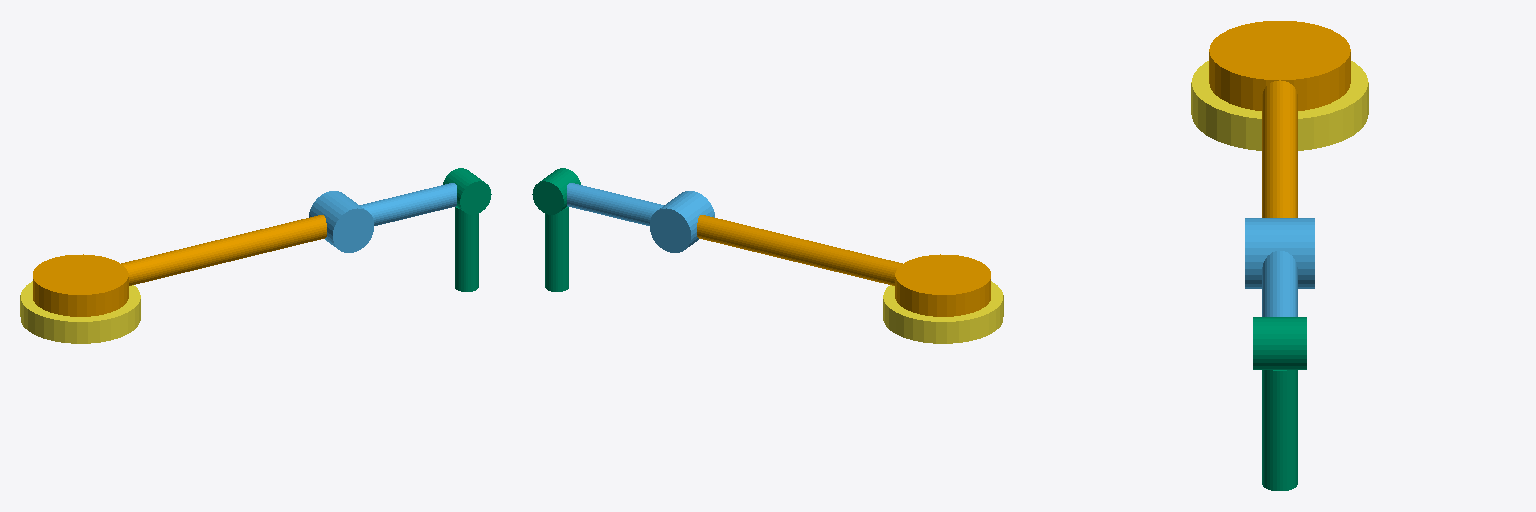
URDF robot description (robotic-arm-3dof):
<robot name="robotic-arm-3dof" version="1.0">
  <joint name="joint_1" type="revolute">
    <limit lower="-3.14000" upper="3.14000" effort="0.00000" velocity="0.00000"/>
    <origin rpy="0.00000 0.00000 0.00000" xyz="0.00000 0.00000 0.20000"/>
    <parent link="Cylinder_link"/>
    <child link="Cylinder.001_link"/>
    <axis xyz="0.00000 0.00000 1.00000"/>
  </joint>
  <joint name="joint_2" type="revolute">
    <limit lower="-3.14000" upper="3.14000" effort="0.00000" velocity="0.00000"/>
    <origin rpy="0.00000 0.00000 0.00000" xyz="2.50000 0.00000 0.00000"/>
    <parent link="Cylinder.001_link"/>
    <child link="Cylinder.002_link"/>
    <axis xyz="0.00000 1.00000 0.00000"/>
  </joint>
  <joint name="joint_3" type="revolute">
    <limit lower="-3.14000" upper="3.14000" effort="0.00000" velocity="0.00000"/>
    <origin rpy="0.00000 0.00000 0.00000" xyz="1.20000 0.00000 0.00000"/>
    <parent link="Cylinder.002_link"/>
    <child link="Cylinder.003_link"/>
    <axis xyz="0.00000 1.00000 0.00000"/>
  </joint>
  <link name="Cylinder.001_link">
    <collision name="Cylinder.001_collision">
      <origin rpy="0.00000 0.00000 0.00000" xyz="1.00000 0.00000 0.00000"/>
      <geometry>
        <box size="2.66965 0.80000 0.20000"/>
      </geometry>
    </collision>
    <inertial>
      <inertia ixx="0.02723" ixy="0.00000" ixz="0.00000" iyy="0.58138" iyz="-0.00000" izz="0.60282"/>
      <origin rpy="0.00000 0.00000 0.00000" xyz="0.53846 -0.00000 0.00000"/>
      <mass value="1.00000"/>
    </inertial>
    <visual name="Cylinder.001">
      <origin rpy="0.00000 0.00000 0.00000" xyz="0.00000 0.00000 0.00000"/>
      <geometry>
        <mesh filename="../meshes/obj/Cylinder.001.obj" scale="1.00000 1.00000 1.00000"/>
      </geometry>
    </visual>
  </link>
  <link name="Cylinder.002_link">
    <collision name="Cylinder.002_collision">
      <origin rpy="0.00000 0.00000 0.00000" xyz="0.45000 0.00000 0.00000"/>
      <geometry>
        <box size="1.22719 0.40000 0.40000"/>
      </geometry>
    </collision>
    <inertial>
      <inertia ixx="0.01588" ixy="-0.00000" ixz="0.00000" iyy="0.12671" iyz="-0.00000" izz="0.12900"/>
      <origin rpy="0.00000 0.00000 0.00000" xyz="0.23077 0.00000 0.00000"/>
      <mass value="1.00000"/>
    </inertial>
    <visual name="Cylinder.002">
      <origin rpy="0.00000 0.00000 0.00000" xyz="0.00000 0.00000 0.00000"/>
      <geometry>
        <mesh filename="../meshes/obj/Cylinder.003.obj" scale="1.00000 1.00000 1.00000"/>
      </geometry>
    </visual>
  </link>
  <link name="Cylinder.003_link">
    <collision name="Cylinder.003_collision">
      <origin rpy="0.00000 0.00000 0.00000" xyz="0.00000 0.00000 -0.36250"/>
      <geometry>
        <box size="0.30000 0.30000 1.02500"/>
      </geometry>
    </collision>
    <inertial>
      <inertia ixx="0.08836" ixy="-0.00000" ixz="0.00000" iyy="0.08734" iyz="0.00000" izz="0.00864"/>
      <origin rpy="0.00000 0.00000 0.00000" xyz="0.00000 -0.00000 -0.26316"/>
      <mass value="1.00000"/>
    </inertial>
    <visual name="Cylinder.003">
      <origin rpy="0.00000 0.00000 0.00000" xyz="0.00000 0.00000 0.00000"/>
      <geometry>
        <mesh filename="../meshes/obj/Cylinder.004.obj" scale="1.00000 1.00000 1.00000"/>
      </geometry>
    </visual>
  </link>
  <link name="Cylinder_link">
    <inertial>
      <inertia ixx="0.00001" ixy="0.00000" ixz="0.00000" iyy="0.00001" iyz="0.00000" izz="0.00001"/>
      <origin rpy="0.00000 0.00000 0.00000" xyz="0.00000 0.00000 0.00000"/>
      <mass value="0.00001"/>
    </inertial>
    <visual name="Cylinder">
      <origin rpy="0.00000 0.00000 0.00000" xyz="0.00000 0.00000 0.00000"/>
      <geometry>
        <mesh filename="../meshes/obj/Cylinder.obj" scale="1.00000 1.00000 1.00000"/>
      </geometry>
    </visual>
  </link>
</robot>

--- What the picture shows (computed from the rendered views, not written in the file) ---
Views: 3 orthographic renders of the robot side by side, from view 1: azimuth 30°, elevation 25°; view 2: azimuth 150°, elevation 25°; view 3: azimuth 270°, elevation 25°.
Robot: robotic-arm-3dof — 4 links, 3 joints (3 revolute); root link Cylinder_link; default pose: every joint at zero.
Visible links, largest first — view 1: Cylinder.001_link, Cylinder.002_link, Cylinder_link, Cylinder.003_link; view 2: Cylinder.001_link, Cylinder.002_link, Cylinder_link, Cylinder.003_link; view 3: Cylinder.001_link, Cylinder.003_link, Cylinder_link, Cylinder.002_link.
Boxes of the visible links, x1,y1,x2,y2 form: Cylinder.001_link: [33, 215, 326, 316]; Cylinder.002_link: [309, 183, 456, 252]; Cylinder_link: [20, 281, 140, 343]; Cylinder.003_link: [443, 168, 491, 291]; Cylinder.001_link: [697, 215, 990, 316]; Cylinder.002_link: [567, 183, 714, 252]; Cylinder_link: [883, 281, 1003, 343]; Cylinder.003_link: [532, 168, 580, 291]; Cylinder.001_link: [1209, 21, 1350, 217]; Cylinder.003_link: [1253, 317, 1306, 490]; Cylinder_link: [1191, 61, 1368, 150]; Cylinder.002_link: [1245, 218, 1314, 316].
Bounding box of the posed robot: 4.35 × 1 × 1.07 m (x, y, z).
4 mesh visuals loaded from 4 distinct referenced files (4 OBJ).